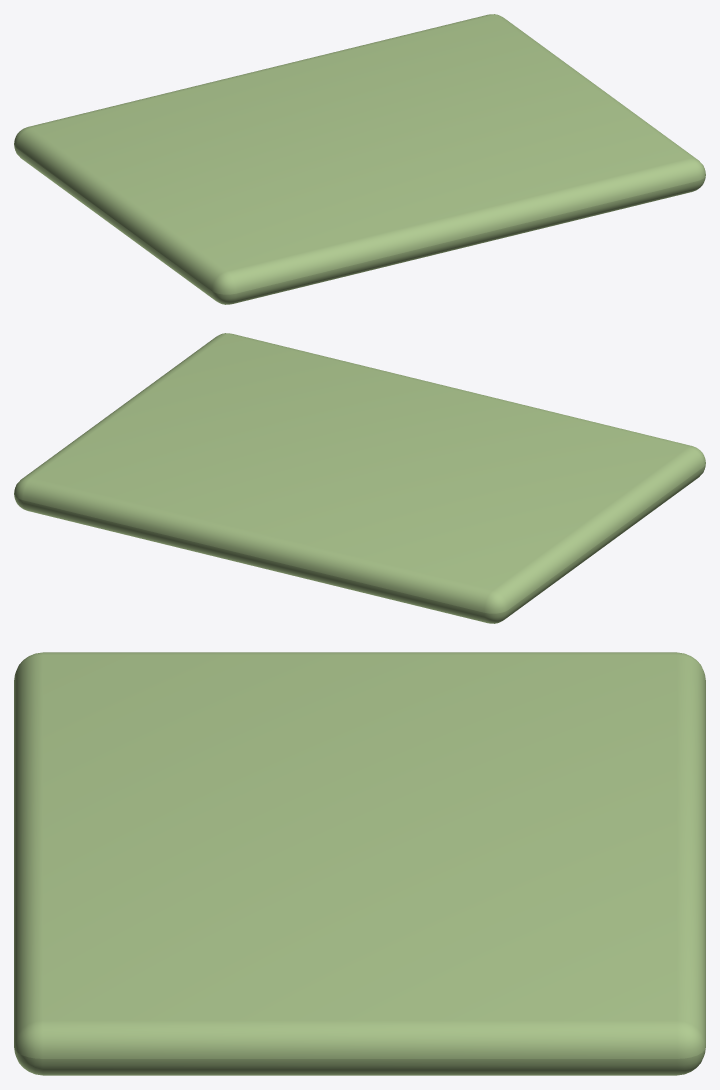
Rendered from island.glb.
3 views of the same model, one above another, from view 1: azimuth 30°, elevation 25°; view 2: azimuth 150°, elevation 25°; view 3: azimuth 270°, elevation 25° (orthographic). The views are drawn at different scales.
Parts seen in each view (by area): view 1: Cube; view 2: Cube; view 3: Cube.
Boxes of the visible parts, x1,y1,x2,y2 form: Cube: (14, 14, 705, 304); Cube: (14, 333, 705, 623); Cube: (14, 652, 705, 1075).
Size of the model in its own units: 16 by 1 by 12.
